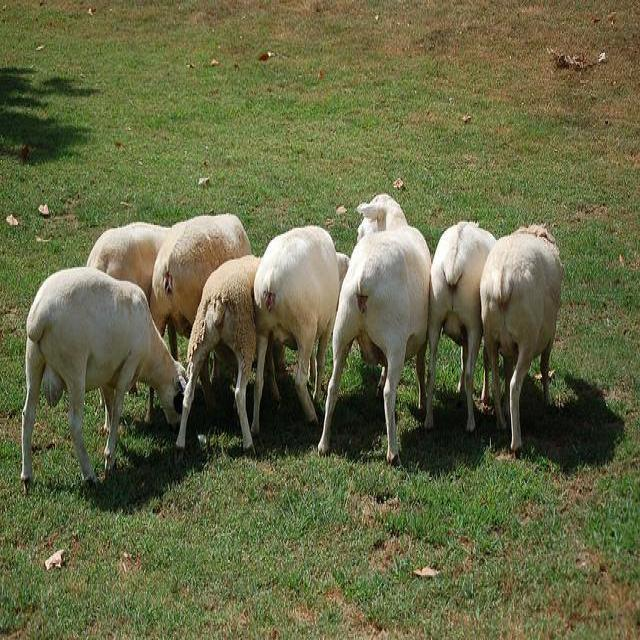Sheep: (20, 264, 188, 510), (316, 196, 432, 462), (250, 226, 350, 438), (483, 223, 564, 456), (177, 254, 262, 461), (424, 222, 499, 433), (151, 213, 251, 359), (71, 213, 166, 294)
